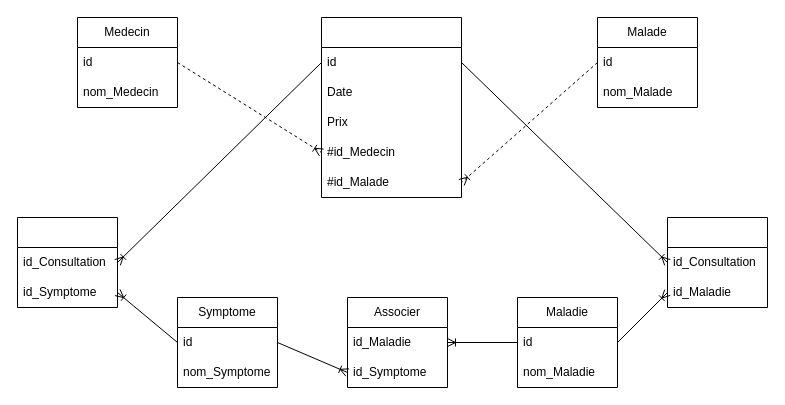
This 785x405 diagram has some shape labels left out. Here are the shapes that lost their labels. From the top down, the box of each, then its label:
(320, 16, 462, 198): Consultation
(16, 216, 118, 308): Detecter
(666, 216, 768, 308): Diagnostiquer
